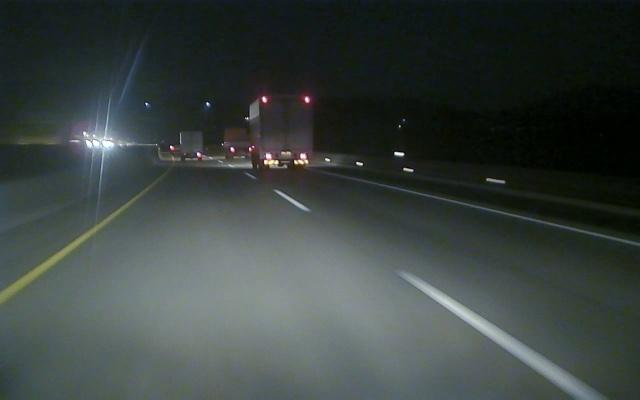lane: (280, 190, 609, 399), (383, 184, 640, 247), (1, 198, 135, 304)
